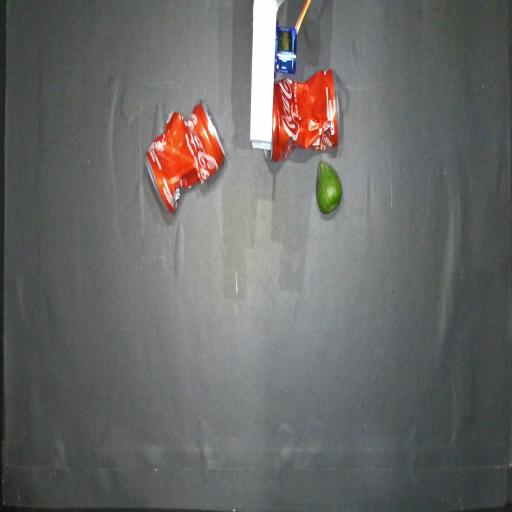higo: (316, 161, 342, 214)
lata_defectuoso: (145, 101, 225, 212), (264, 69, 341, 162)
